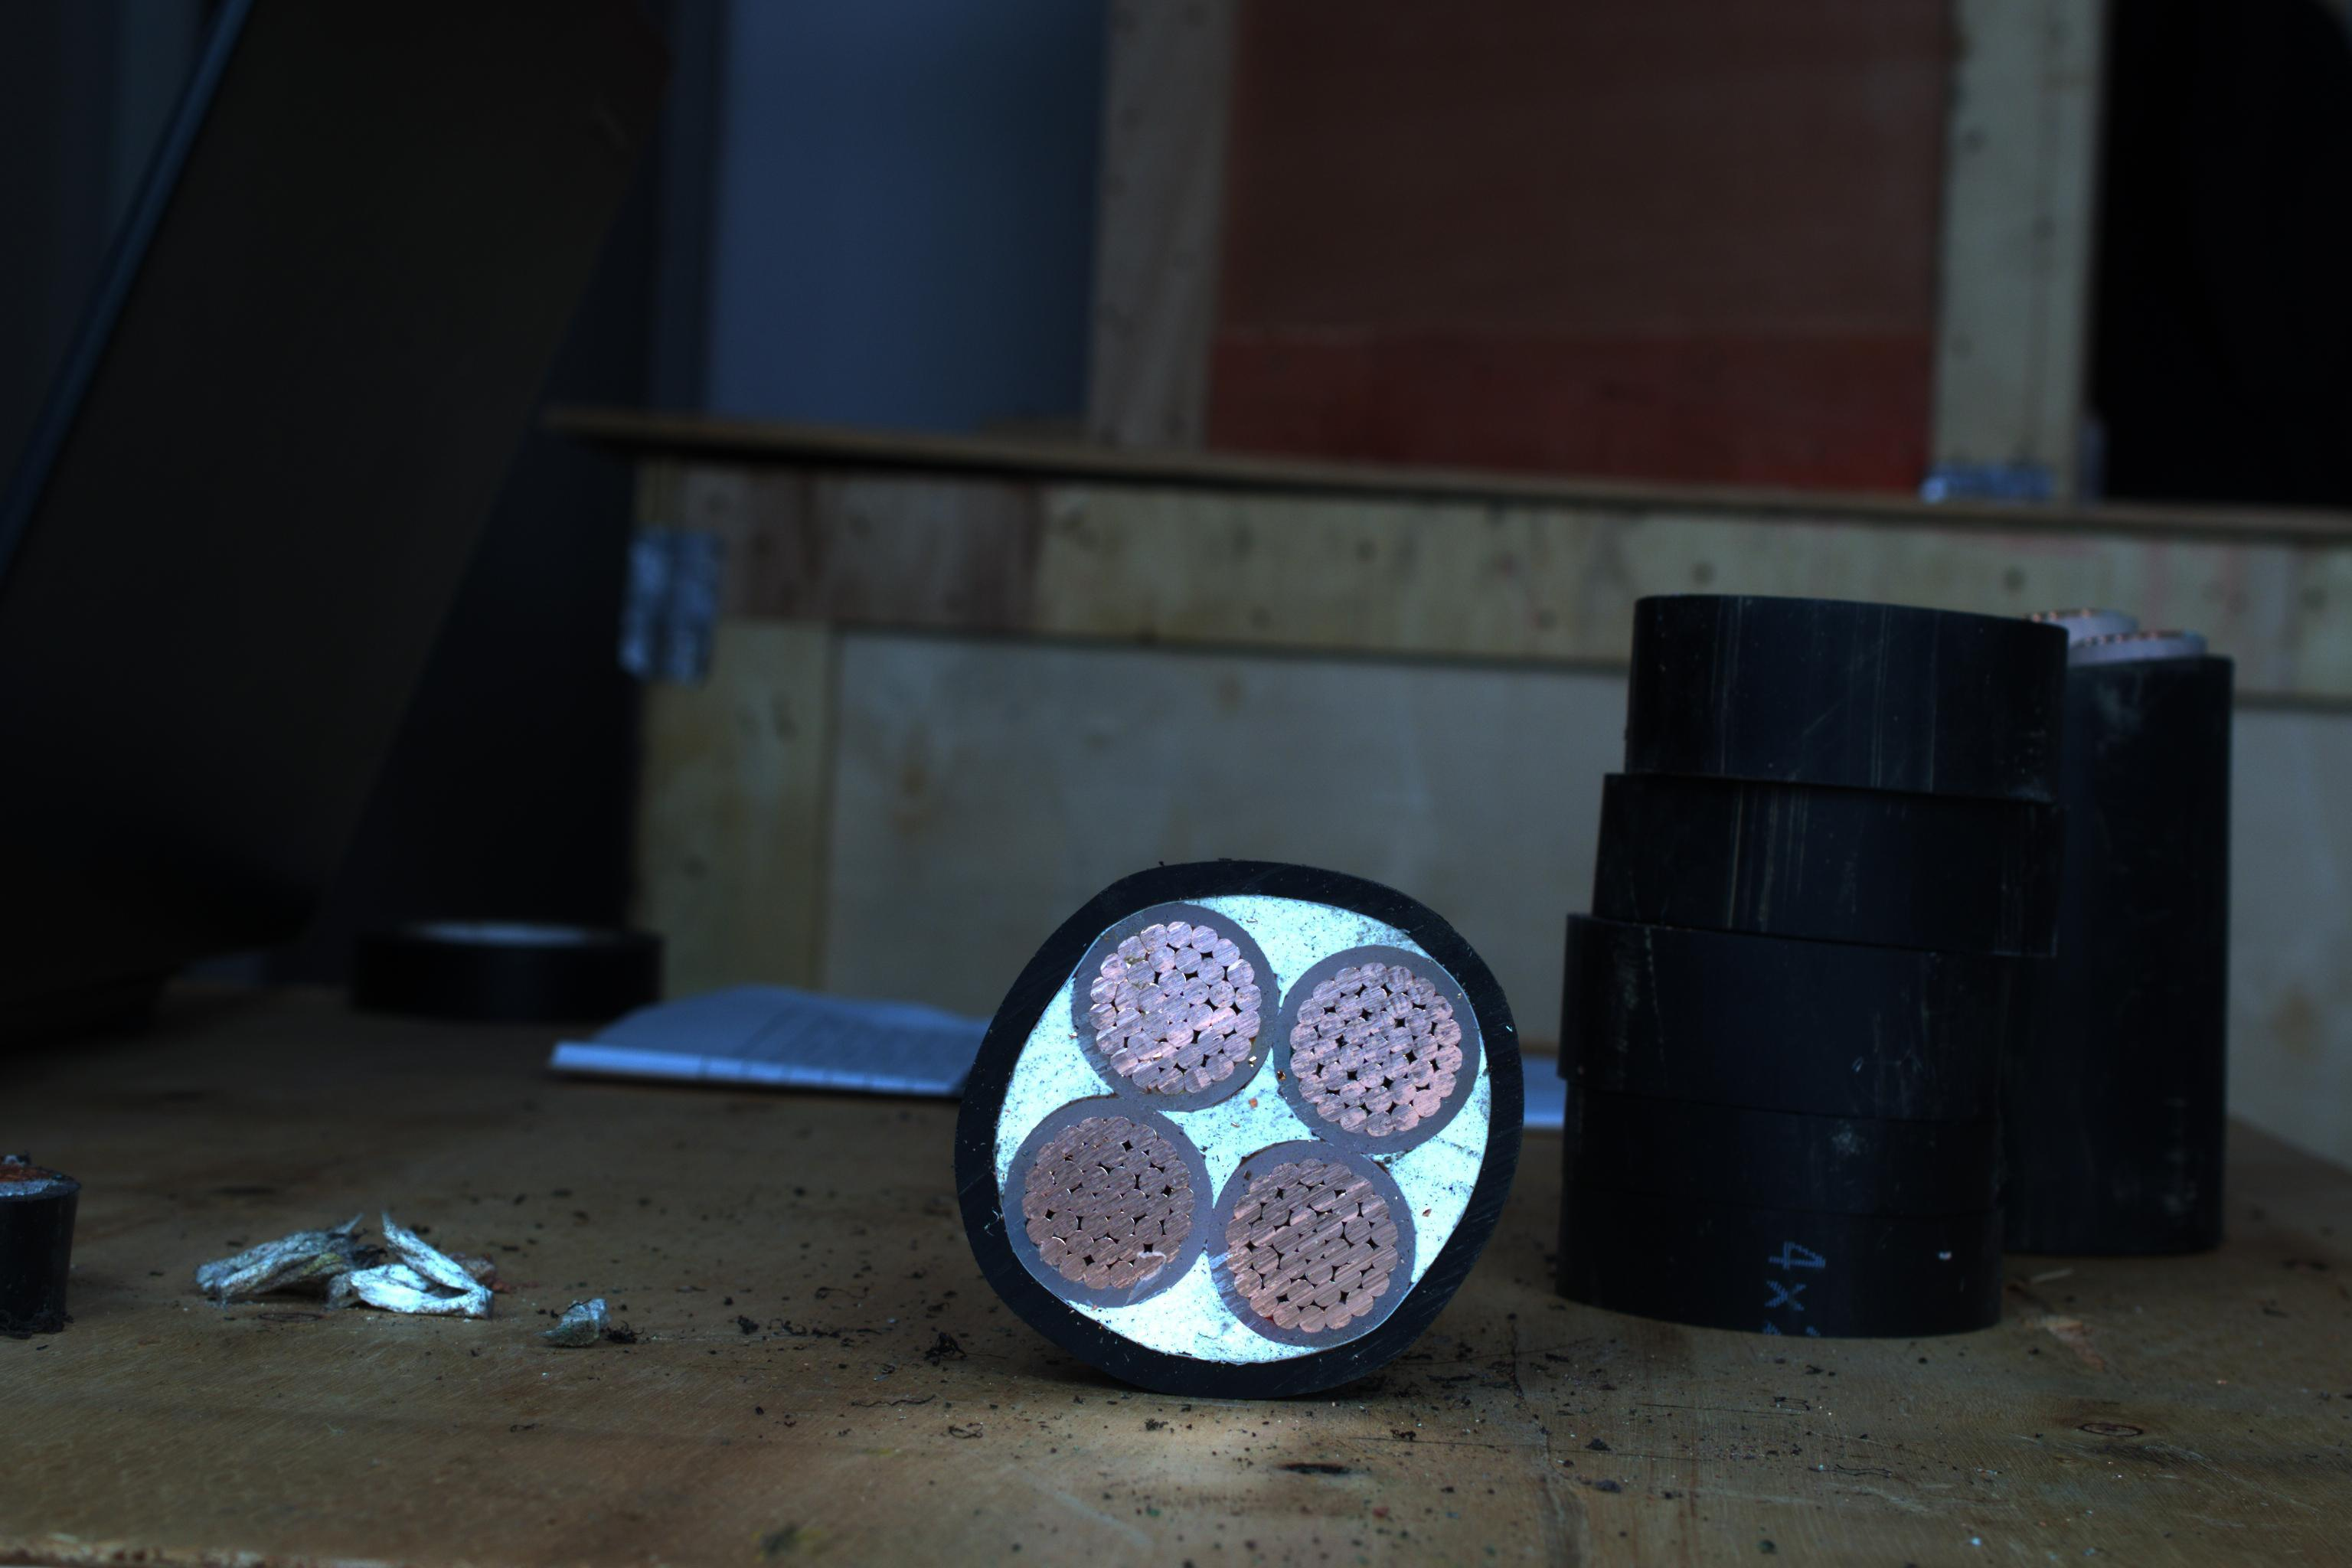YJV_0.6_1kV_4x240: (952, 864, 1529, 1398)
